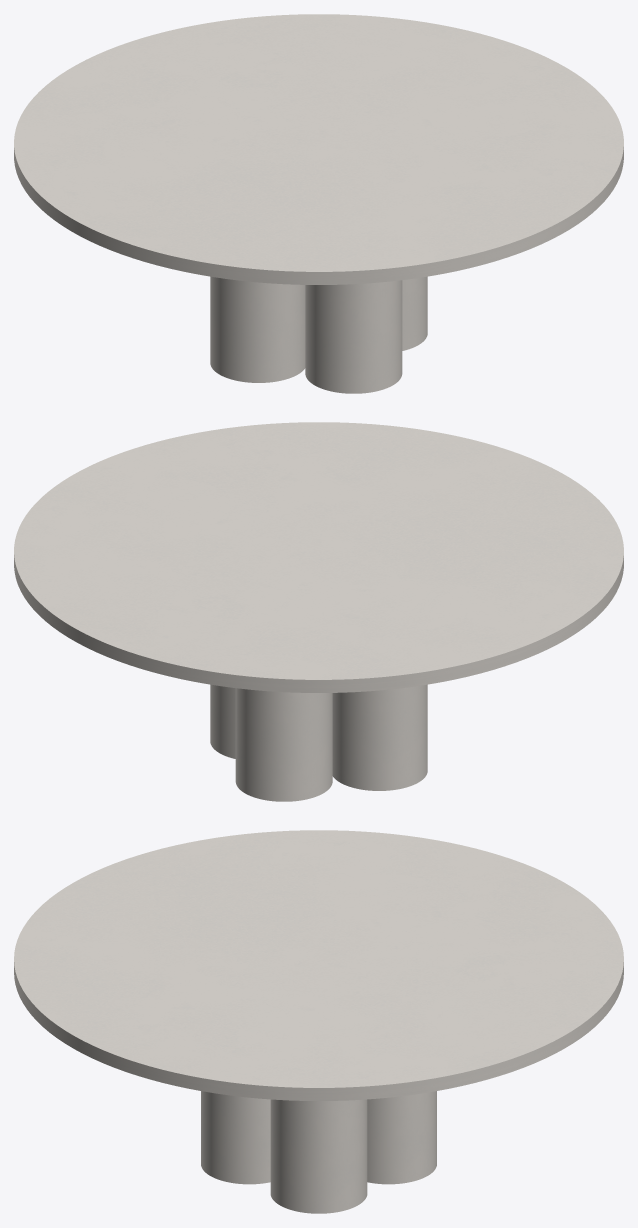
Rendered from pearlwhite_round_standard_secondtable.glb.
3 renders of one model, top to bottom at view 1: azimuth 30°, elevation 25°; view 2: azimuth 150°, elevation 25°; view 3: azimuth 270°, elevation 25°, orthographic.
Parts seen in each view (by area): view 1: standard_round, secondtable; view 2: standard_round, secondtable; view 3: standard_round, secondtable.
Part boxes in pixels (box(x1,y1,x2,y2)): standard_round: box(14, 14, 623, 284); secondtable: box(210, 276, 427, 393); standard_round: box(14, 422, 623, 692); secondtable: box(210, 684, 427, 801); standard_round: box(14, 830, 623, 1100); secondtable: box(201, 1091, 436, 1213).
Bounding box in the file's own units: 6.75 × 2.5 × 6.75.
1 material, 1 textured.
